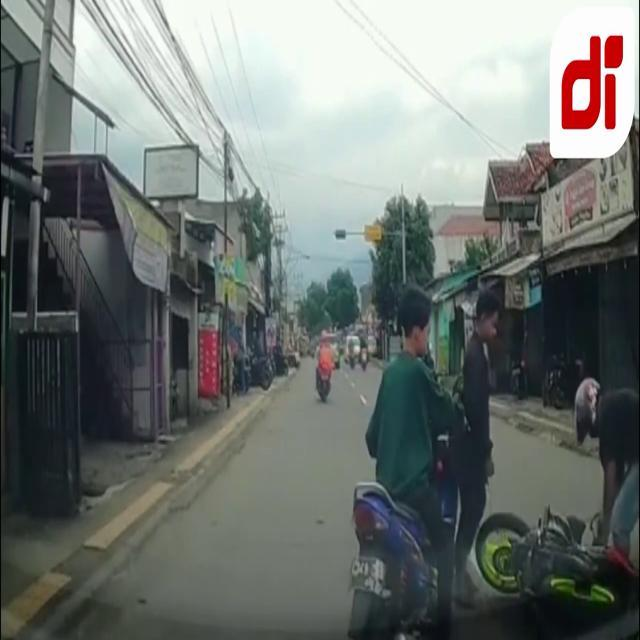single accident: (473, 450, 640, 638)
